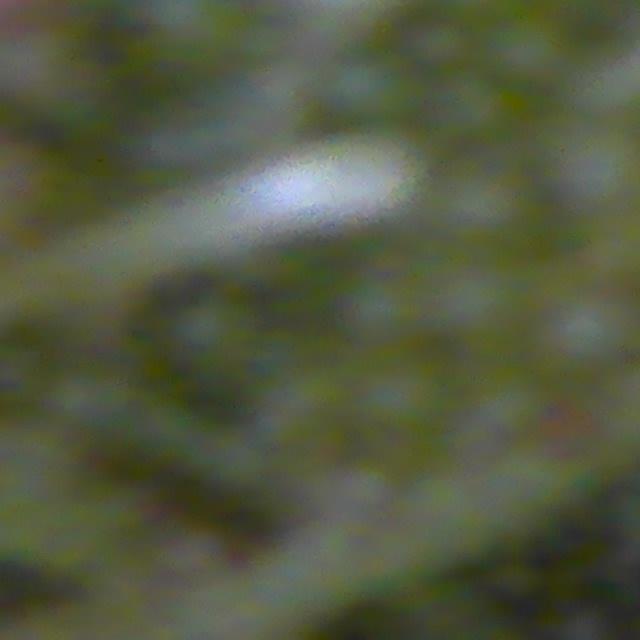SeaGrape: (444, 173, 548, 274), (432, 270, 537, 363), (540, 311, 636, 399), (326, 51, 421, 130), (357, 377, 450, 455), (487, 9, 571, 90), (565, 132, 640, 220), (340, 268, 424, 346)
